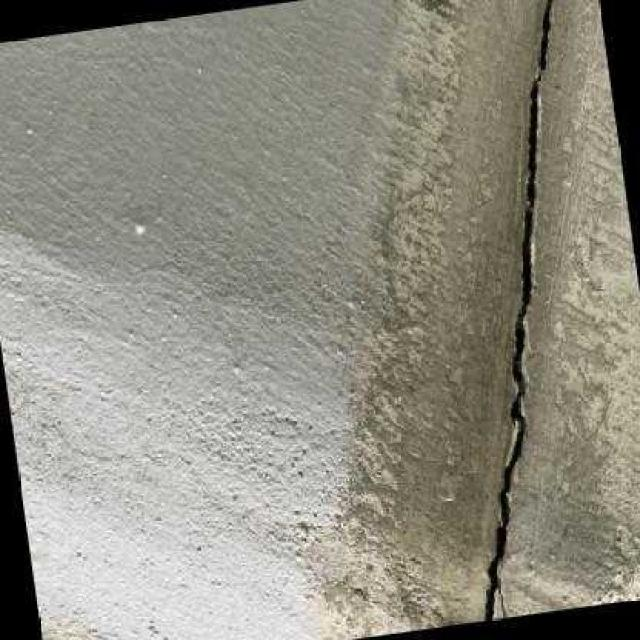D00: (483, 0, 554, 620)
